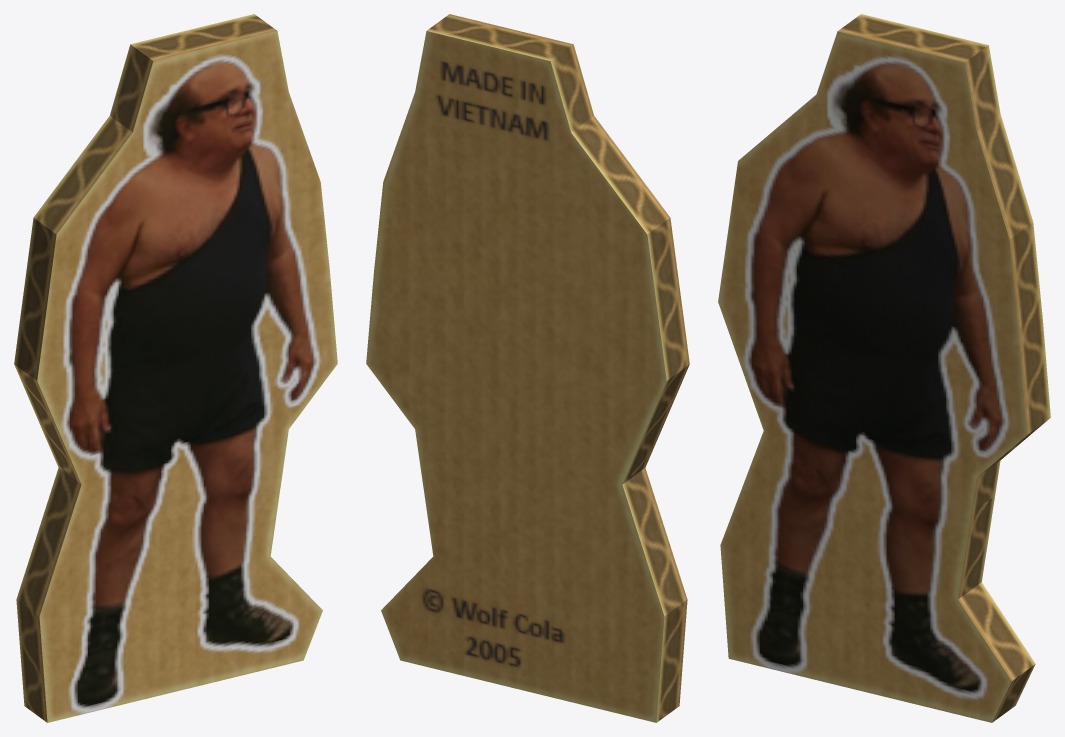
File: trashman.fbx
3 renders of one model, left to right at view 1: azimuth 30°, elevation 25°; view 2: azimuth 150°, elevation 25°; view 3: azimuth 330°, elevation 25°, orthographic. The views are drawn at different scales.
Visible parts, largest first — view 1: Frank; view 2: Frank; view 3: Frank.
Part boxes in pixels (x1=…): Frank: x1=14, y1=14, x2=337, y2=722; Frank: x1=366, y1=14, x2=689, y2=722; Frank: x1=718, y1=14, x2=1050, y2=722.
Size of the model in its own units: 0.7519 by 1.52 by 0.1.
1 material, 1 textured.
